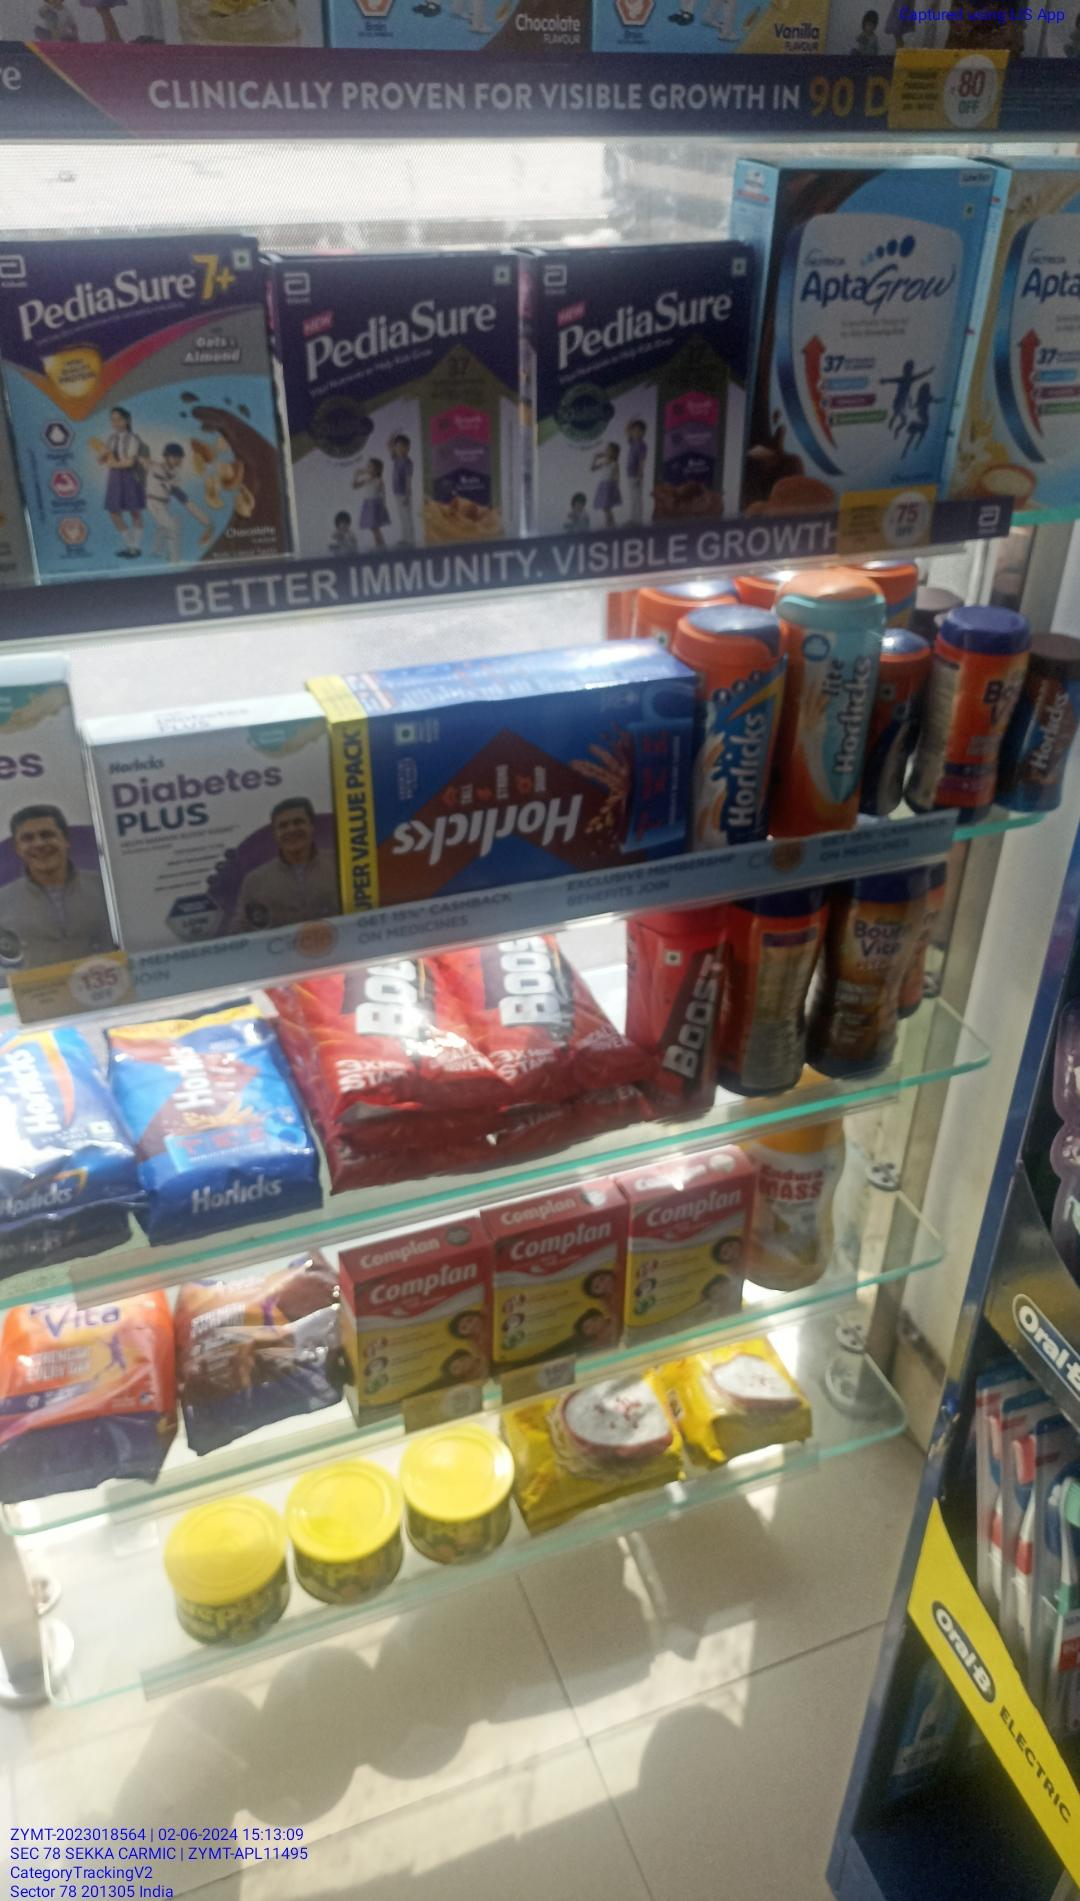HORLICKS_LITE_REGULAR_MALT_500_GM_JAR: (786, 584, 871, 833), (693, 619, 777, 847)
PEDIASURE_7_PLUS_CHOCOLATE_400_G_PACK: (0, 219, 268, 571)
PEDIASURE_CHOCOLATE_500_G_PACK: (529, 253, 752, 526)
PEDIASURE_VANILLA_500_G_PACK: (277, 245, 518, 552)
